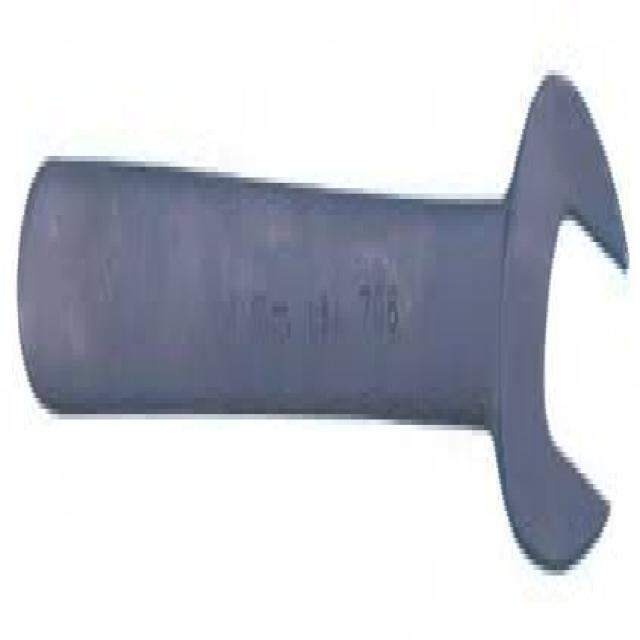wrench: (14, 67, 638, 580)
